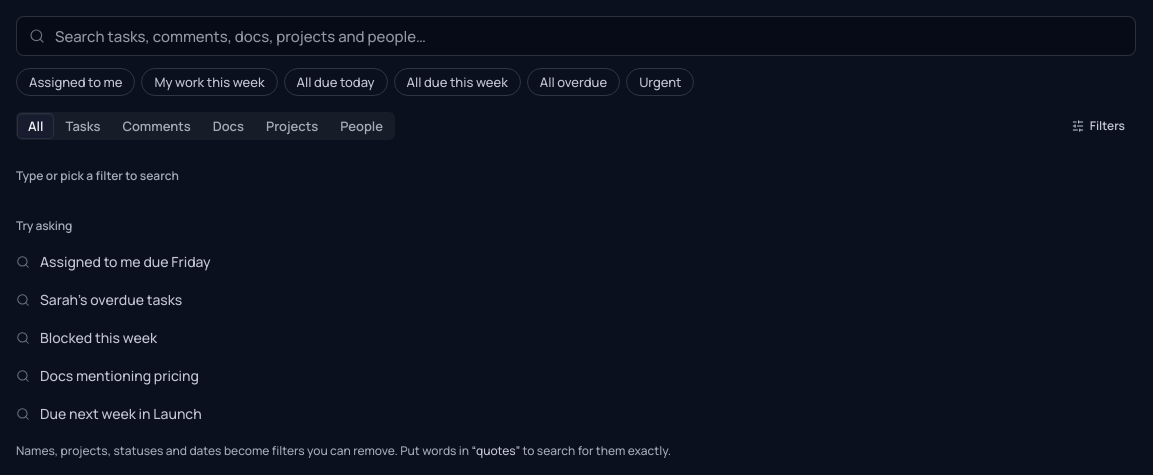
Test: text search › matches words in any order and puts title hits first
Type "budget q3" into the search field labelled "Search tasks" at (593, 36), box [55,17,1131,55]
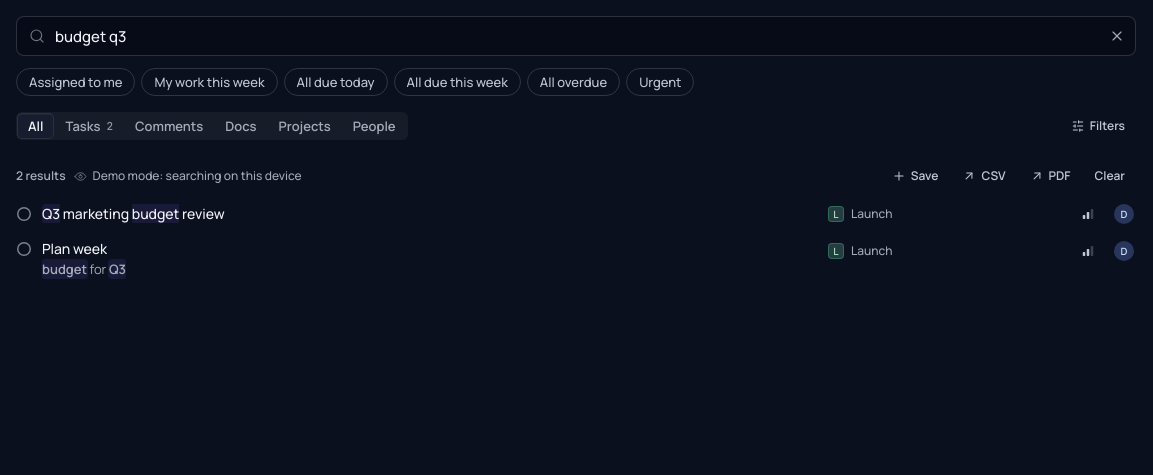
Check: the buttons "Open " read "Q3 marketing budget review", "Plan week", in this order, box [42,204,224,224]; [42,239,107,259]
